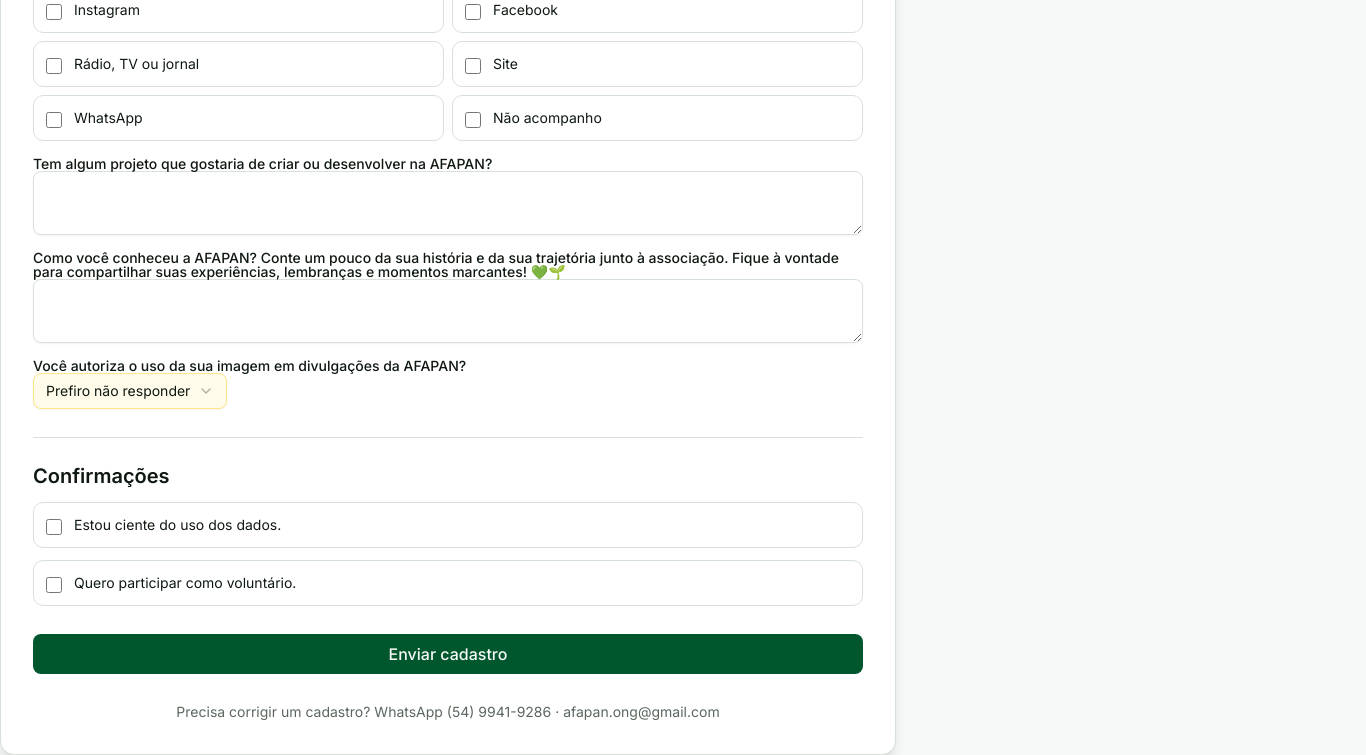
it: formulário público de voluntários › bloqueia o envio vazio com mensagem compreensível
(page scrolled)
Click the button "Enviar cadastro": (448, 654) [33, 634, 863, 674]
(page scrolled)
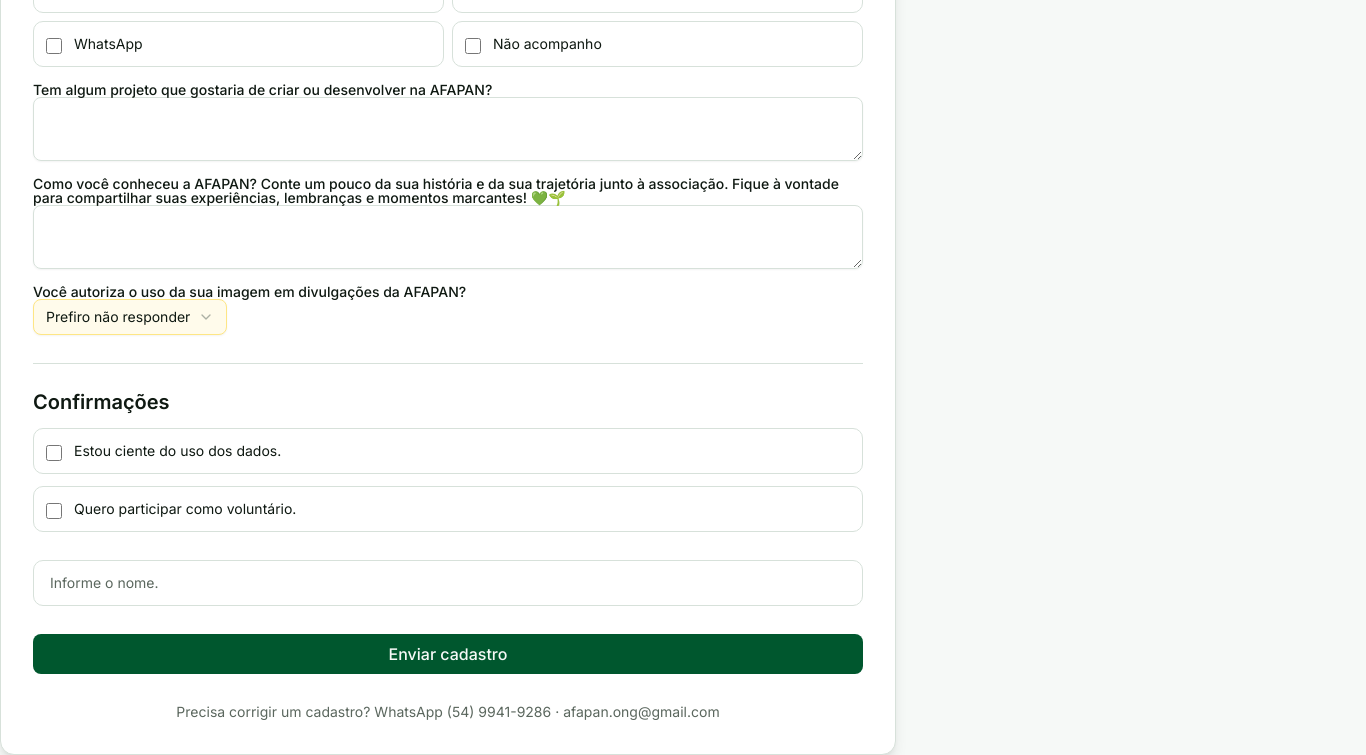
Expected: the text "Informe o nome." is shown, [50, 574, 158, 591]
